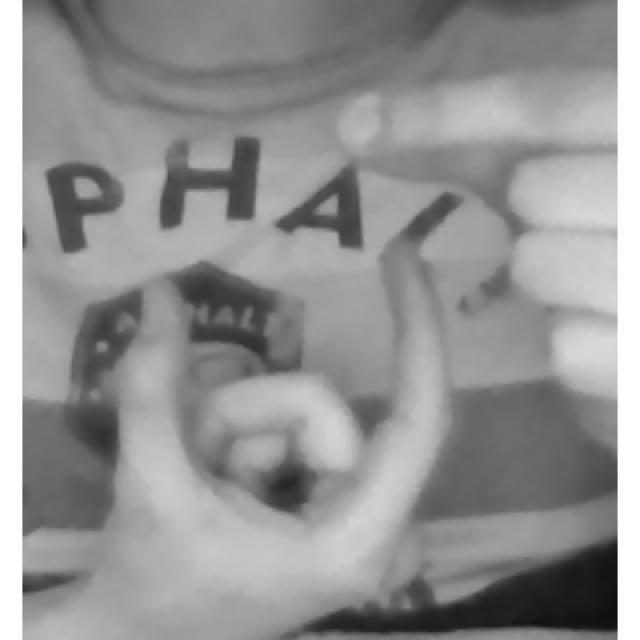U--: (110, 64, 616, 640)
